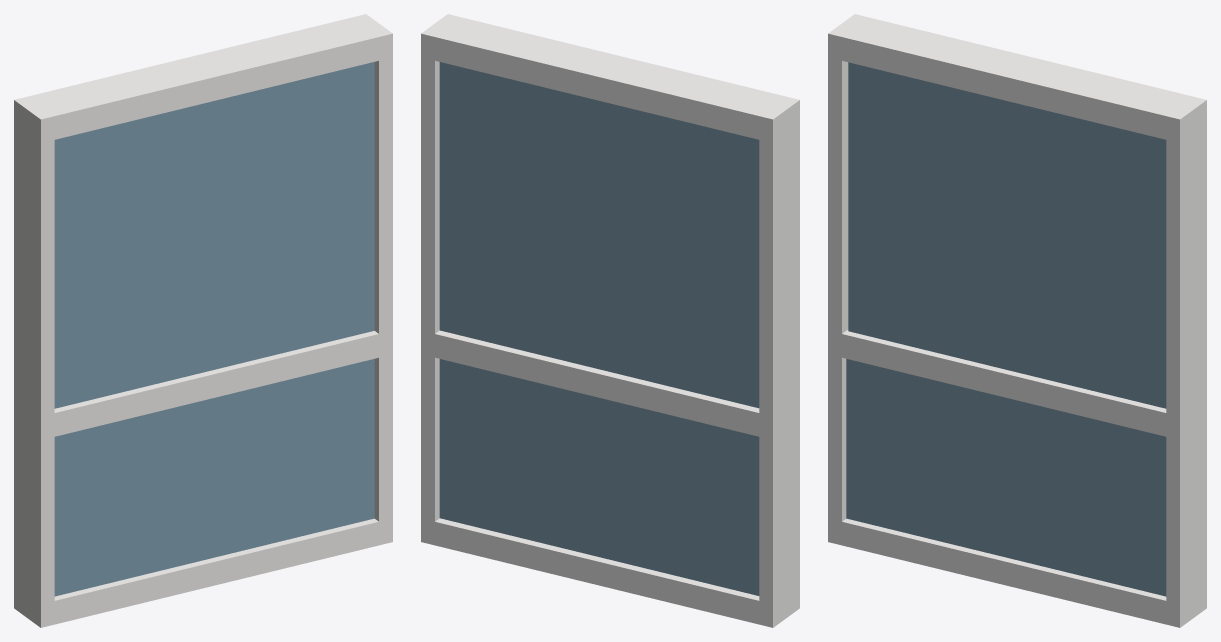
File: Window_8.fbx
The picture shows the model from 3 angles, left to right: view 1: azimuth 30°, elevation 25°; view 2: azimuth 150°, elevation 25°; view 3: azimuth 330°, elevation 25°; orthographic projection.
Parts seen in each view (by area): view 1: Window_8; view 2: Window_8; view 3: Window_8.
Boxes of the visible parts, x1,y1,x2,y2 form: Window_8: [14, 14, 392, 627]; Window_8: [421, 14, 799, 627]; Window_8: [828, 14, 1206, 627].
Bounding box in the file's own units: 98.83 × 13.03 × 136.
